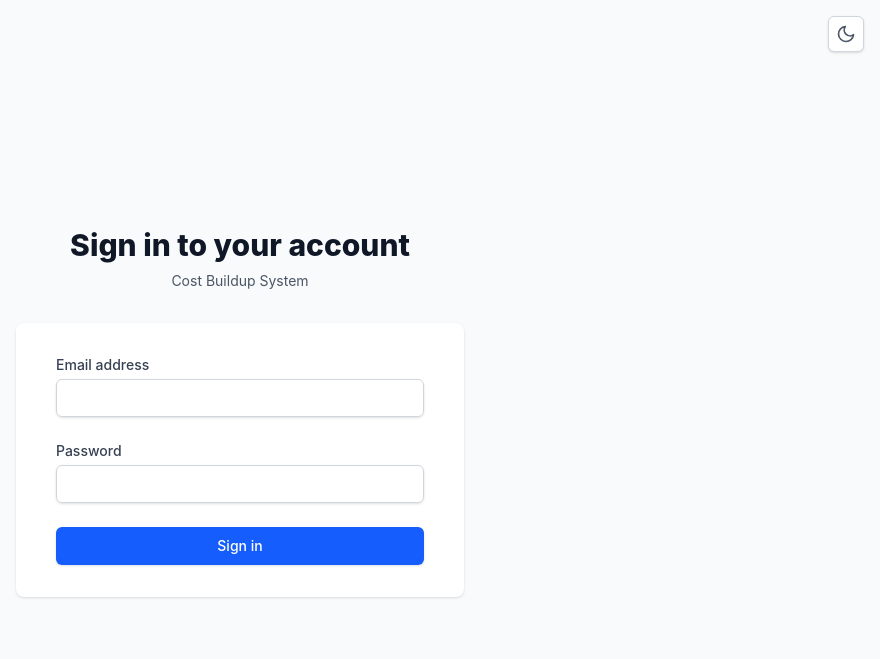
LoginPage › displays lockout message on 423 status
Step 1. Type "user@example.com" into the field labelled "Email address" → (240, 398), box [56,379,424,417]
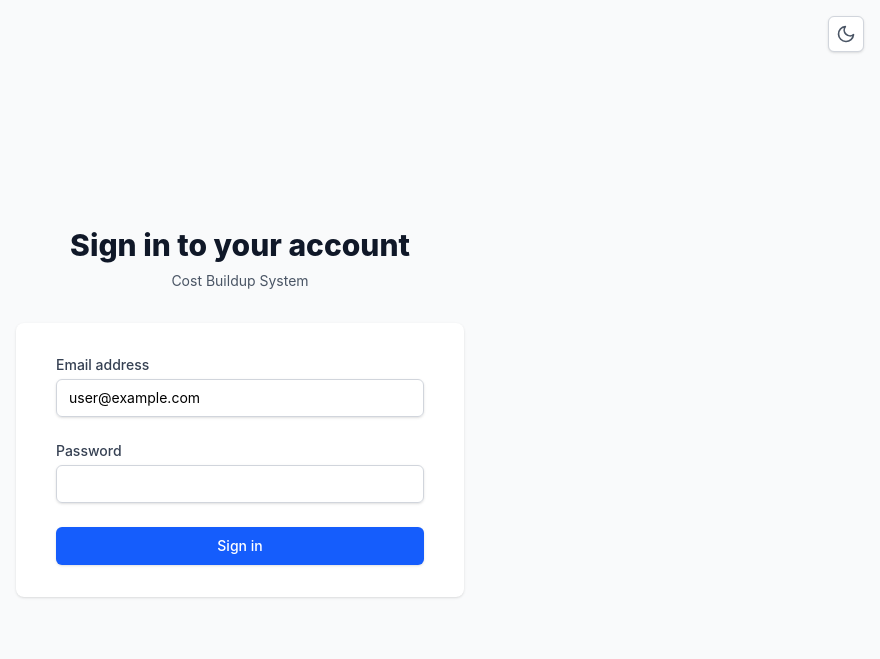
Step 2. Type "password123" into the password field labelled "Password" → (240, 484), box [56,465,424,503]
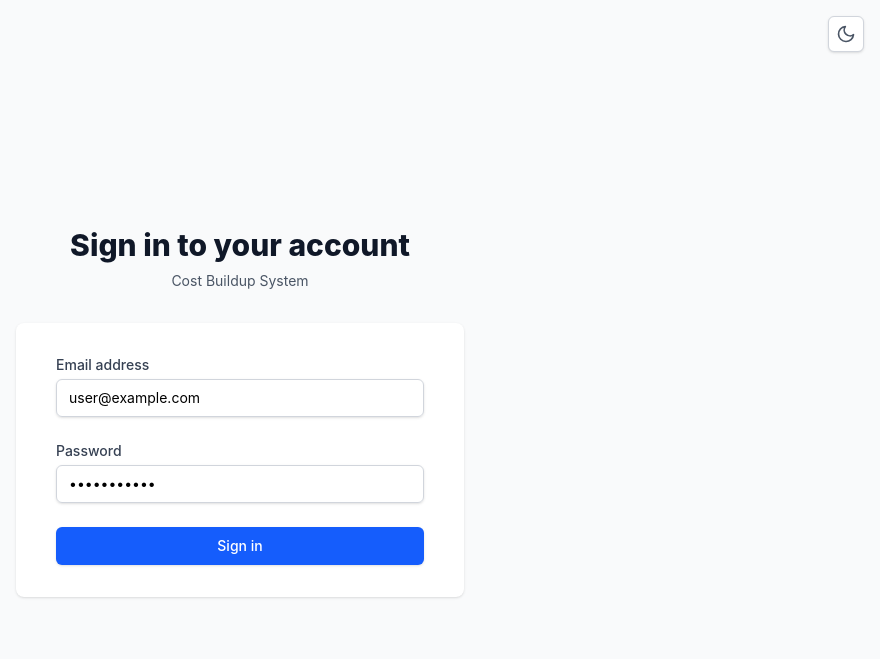
Step 3. Click the button "Sign in" → click(240, 546), box [56,527,424,565]
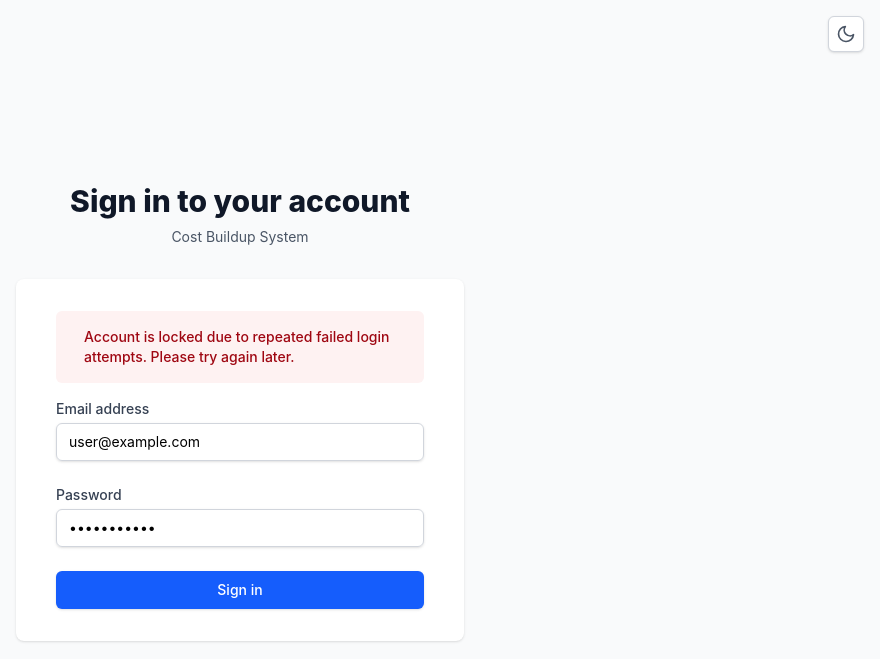
Check: the heading "Account is locked due to repeated failed login attempts" is shown, box [84,328,390,365]
